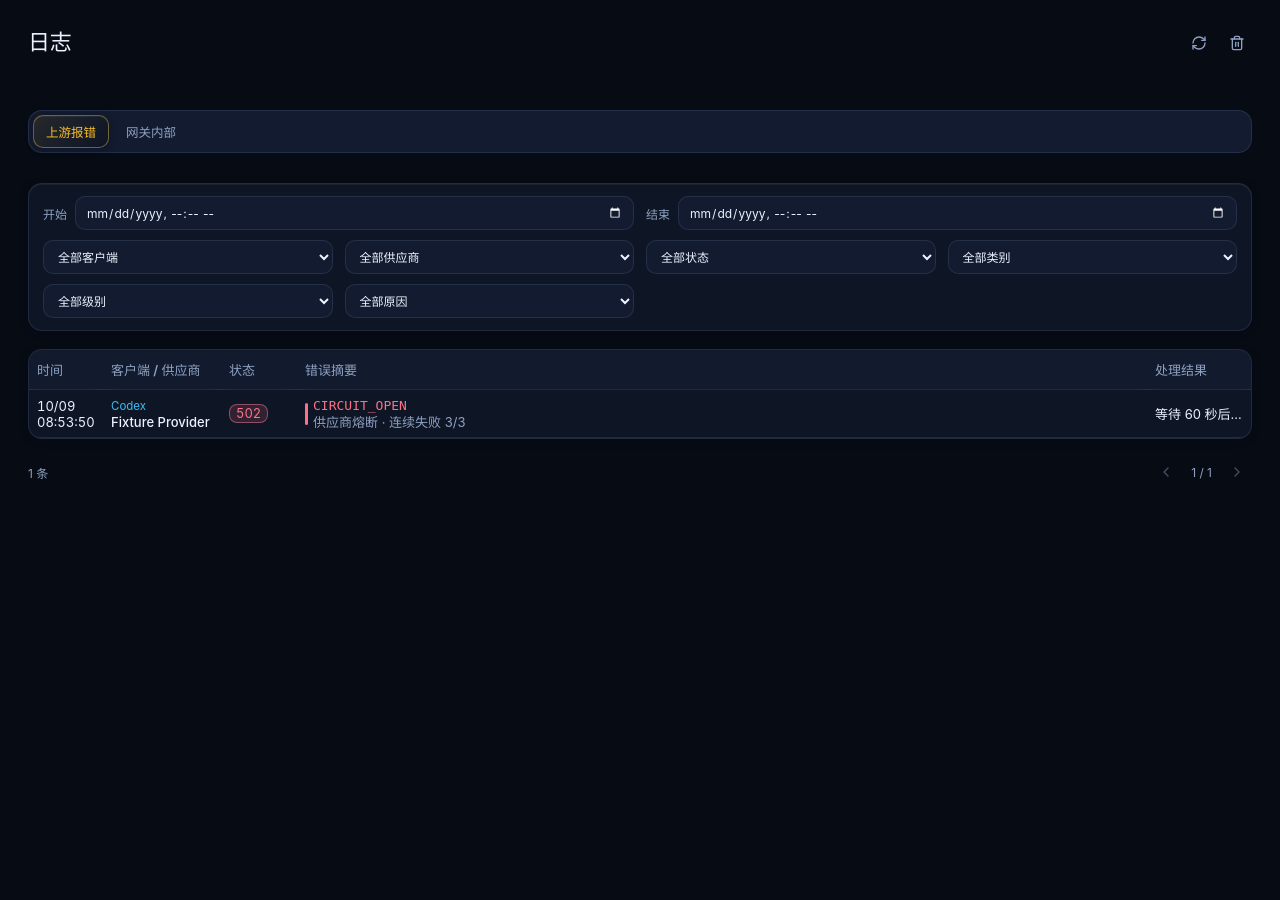
Test: shows recorded circuit cause and deadline evidence in the detail drawer
What coordinates should you click on to do the following:
click the button "CIRCUIT_OPEN 供应商熔断 · 连续失败 3/3"
I would click on:
 (360, 405)
Its box is [305,398,1139,430].
(page scrolled)
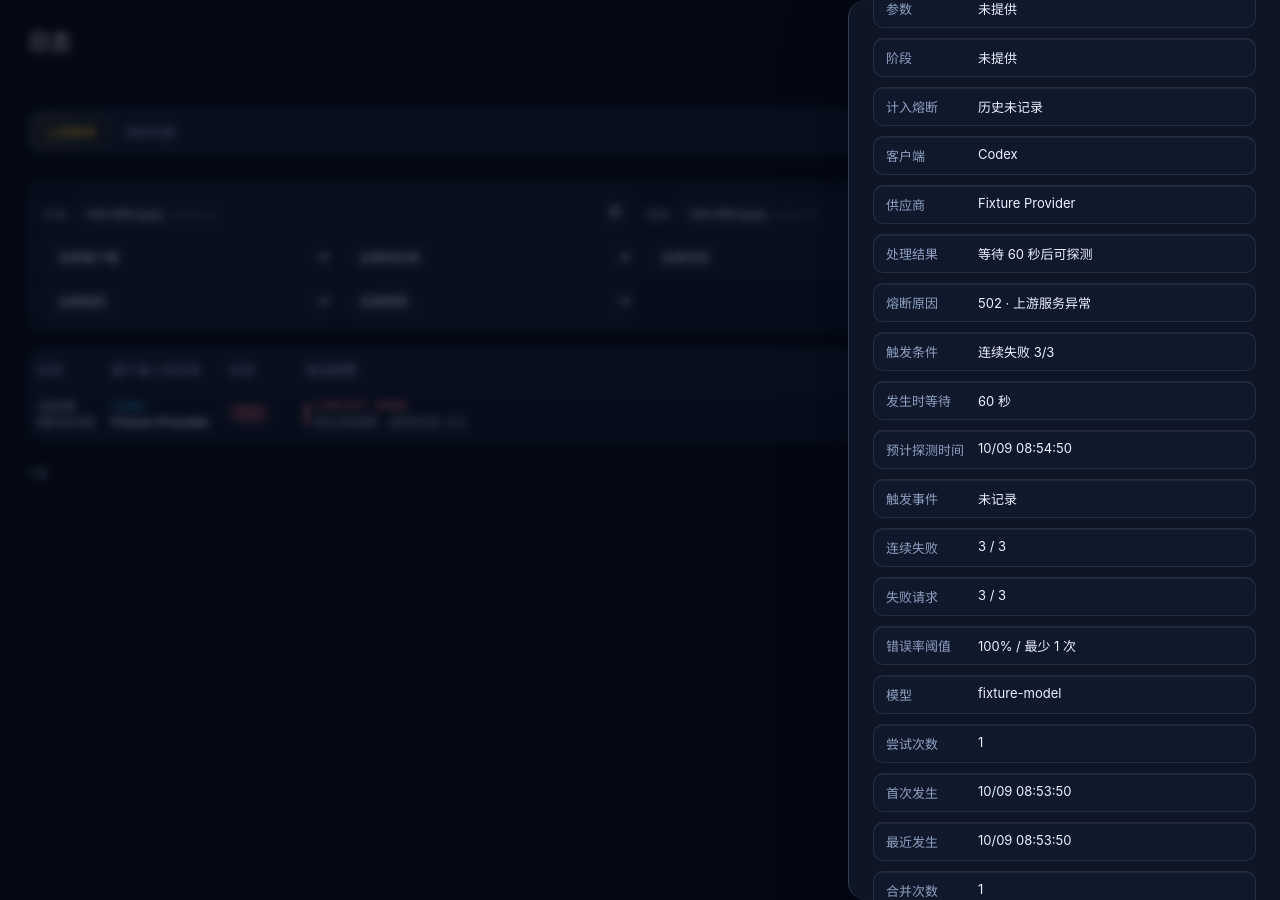
Expected: the text "连续失败 3/3" is shown, [978,344,1054,360]
Expected: the text "60 秒" is shown, [978,393,1011,409]
